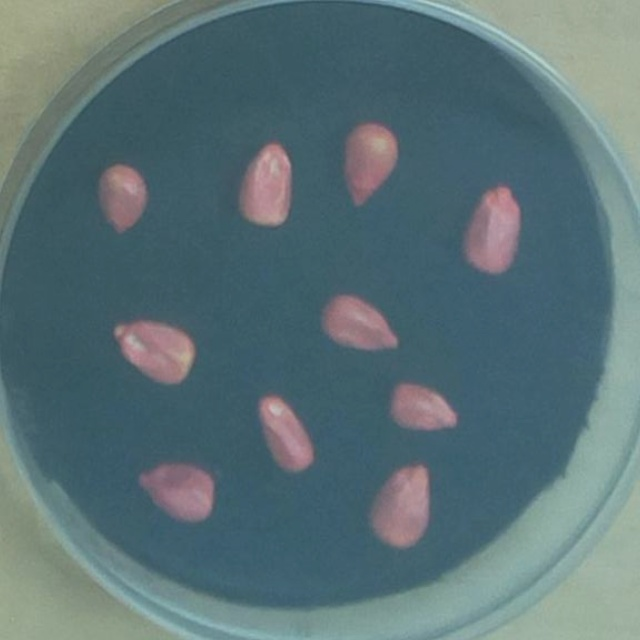Zea mays: (358, 454, 439, 555), (105, 313, 202, 395), (454, 178, 529, 283), (334, 114, 407, 217), (129, 454, 224, 533), (312, 284, 407, 361), (227, 137, 301, 235), (247, 387, 321, 483), (381, 371, 467, 440), (87, 157, 154, 242)
